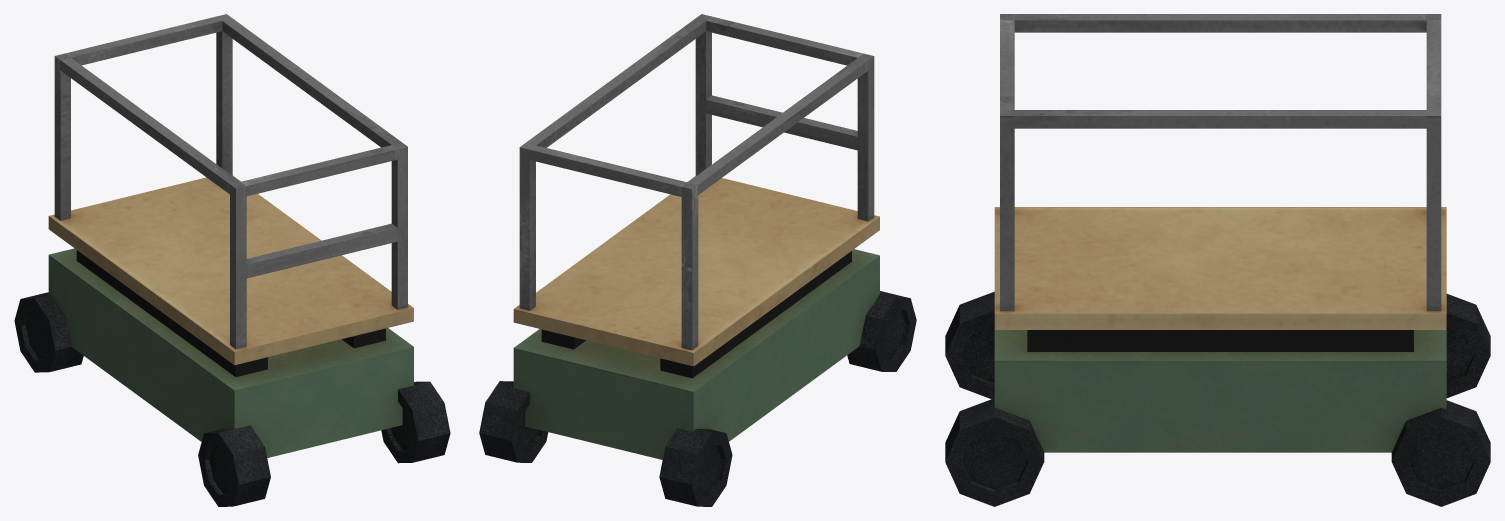
Rendered from scissor_lift.fbx.
The picture shows the model from 3 angles, left to right: view 1: azimuth 30°, elevation 25°; view 2: azimuth 150°, elevation 25°; view 3: azimuth 270°, elevation 25°; orthographic projection. The views are drawn at different scales.
Parts seen in each view (by area): view 1: scissorLift_plateforme, scissorLift_corps, scissorLift_guardrail, scissorLift_roue, scissorLift_extension; view 2: scissorLift_plateforme, scissorLift_corps, scissorLift_guardrail, scissorLift_roue, scissorLift_extension; view 3: scissorLift_plateforme, scissorLift_corps, scissorLift_guardrail, scissorLift_roue, scissorLift_extension.
Boxes of the visible parts, box(x1,y1,x2,y2) form: scissorLift_plateforme: box(48, 175, 413, 365); scissorLift_corps: box(48, 248, 413, 457); scissorLift_guardrail: box(54, 14, 407, 349); scissorLift_roue: box(14, 292, 450, 506); scissorLift_extension: box(76, 250, 385, 376); scissorLift_plateforme: box(513, 176, 879, 366); scissorLift_corps: box(513, 249, 879, 459); scissorLift_guardrail: box(519, 14, 874, 350); scissorLift_roue: box(479, 291, 916, 506); scissorLift_extension: box(541, 251, 851, 378); scissorLift_plateforme: box(994, 207, 1446, 329); scissorLift_corps: box(994, 330, 1446, 452); scissorLift_guardrail: box(1000, 14, 1441, 311); scissorLift_roue: box(945, 291, 1490, 506); scissorLift_extension: box(1027, 330, 1413, 351).
Size of the model in its own units: 132 by 185 by 242.
